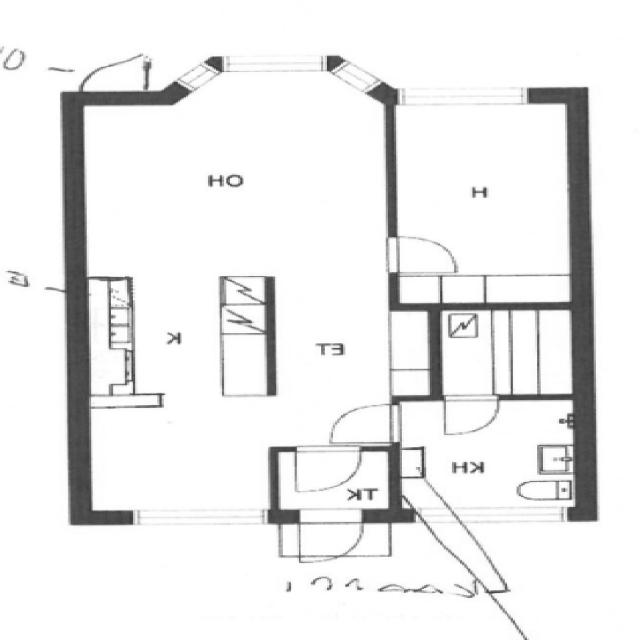door: (286, 445, 368, 500), (379, 229, 467, 279), (290, 507, 368, 563), (322, 399, 403, 445), (435, 392, 504, 439), (329, 56, 390, 96)
window: (388, 77, 544, 114), (120, 504, 270, 534), (216, 48, 334, 81), (329, 56, 390, 97), (166, 62, 222, 96), (158, 73, 210, 105)
zone: (72, 79, 394, 260), (388, 95, 578, 305), (80, 269, 274, 400), (392, 400, 584, 522), (436, 305, 582, 398)
